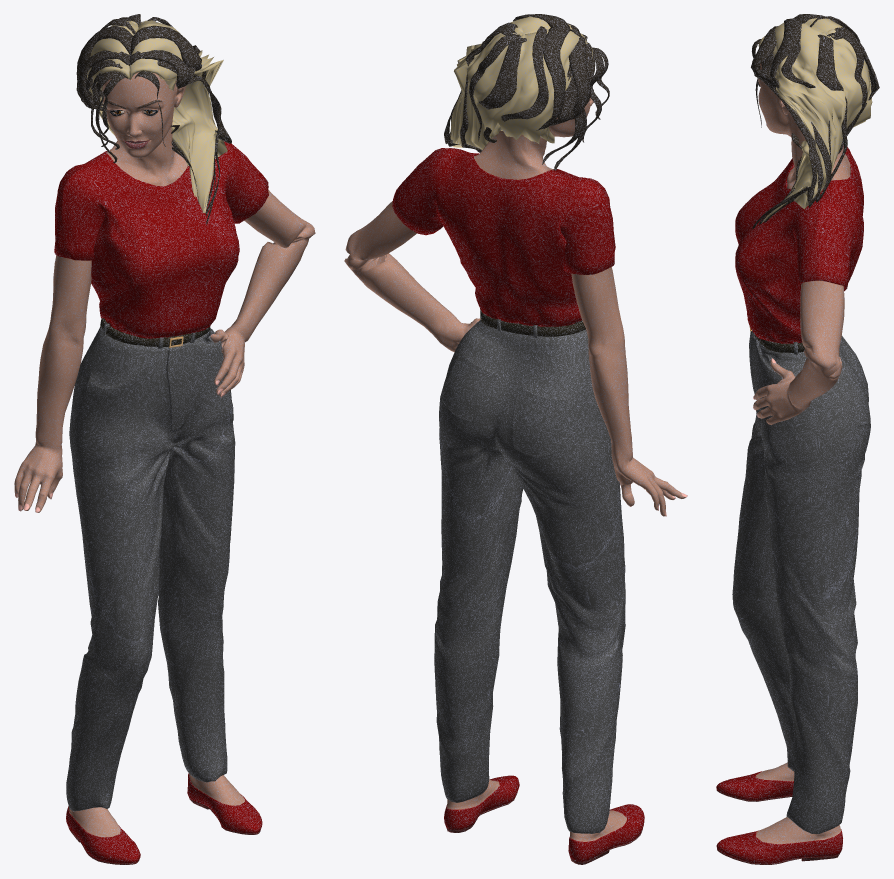
3 renders of one model, left to right at view 1: azimuth 30°, elevation 25°; view 2: azimuth 150°, elevation 25°; view 3: azimuth 270°, elevation 25°, orthographic. The views are drawn at different scales.
Visible parts, largest first — view 1: Figure_1 (×10), Figure_2 (×6); view 2: Figure_1 (×8), Figure_2 (×7); view 3: Figure_1 (×9), Figure_2 (×8).
Boxes of the visible parts, x1,y1,x2,y2 form: Figure_1 (×10): [14, 72, 315, 863]; Figure_2 (×6): [76, 20, 231, 225]; Figure_1 (×8): [344, 97, 685, 861]; Figure_2 (×7): [450, 16, 592, 152]; Figure_1 (×9): [716, 63, 870, 863]; Figure_2 (×8): [751, 18, 879, 229].
Size of the model in its own units: 26.56 by 12.08 by 65.36.
